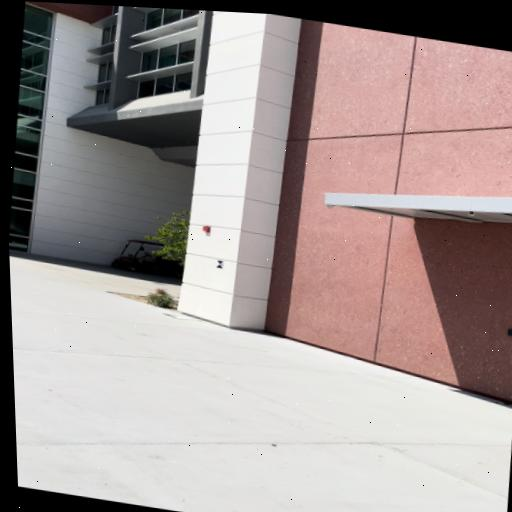target6: (216, 260, 224, 269)
